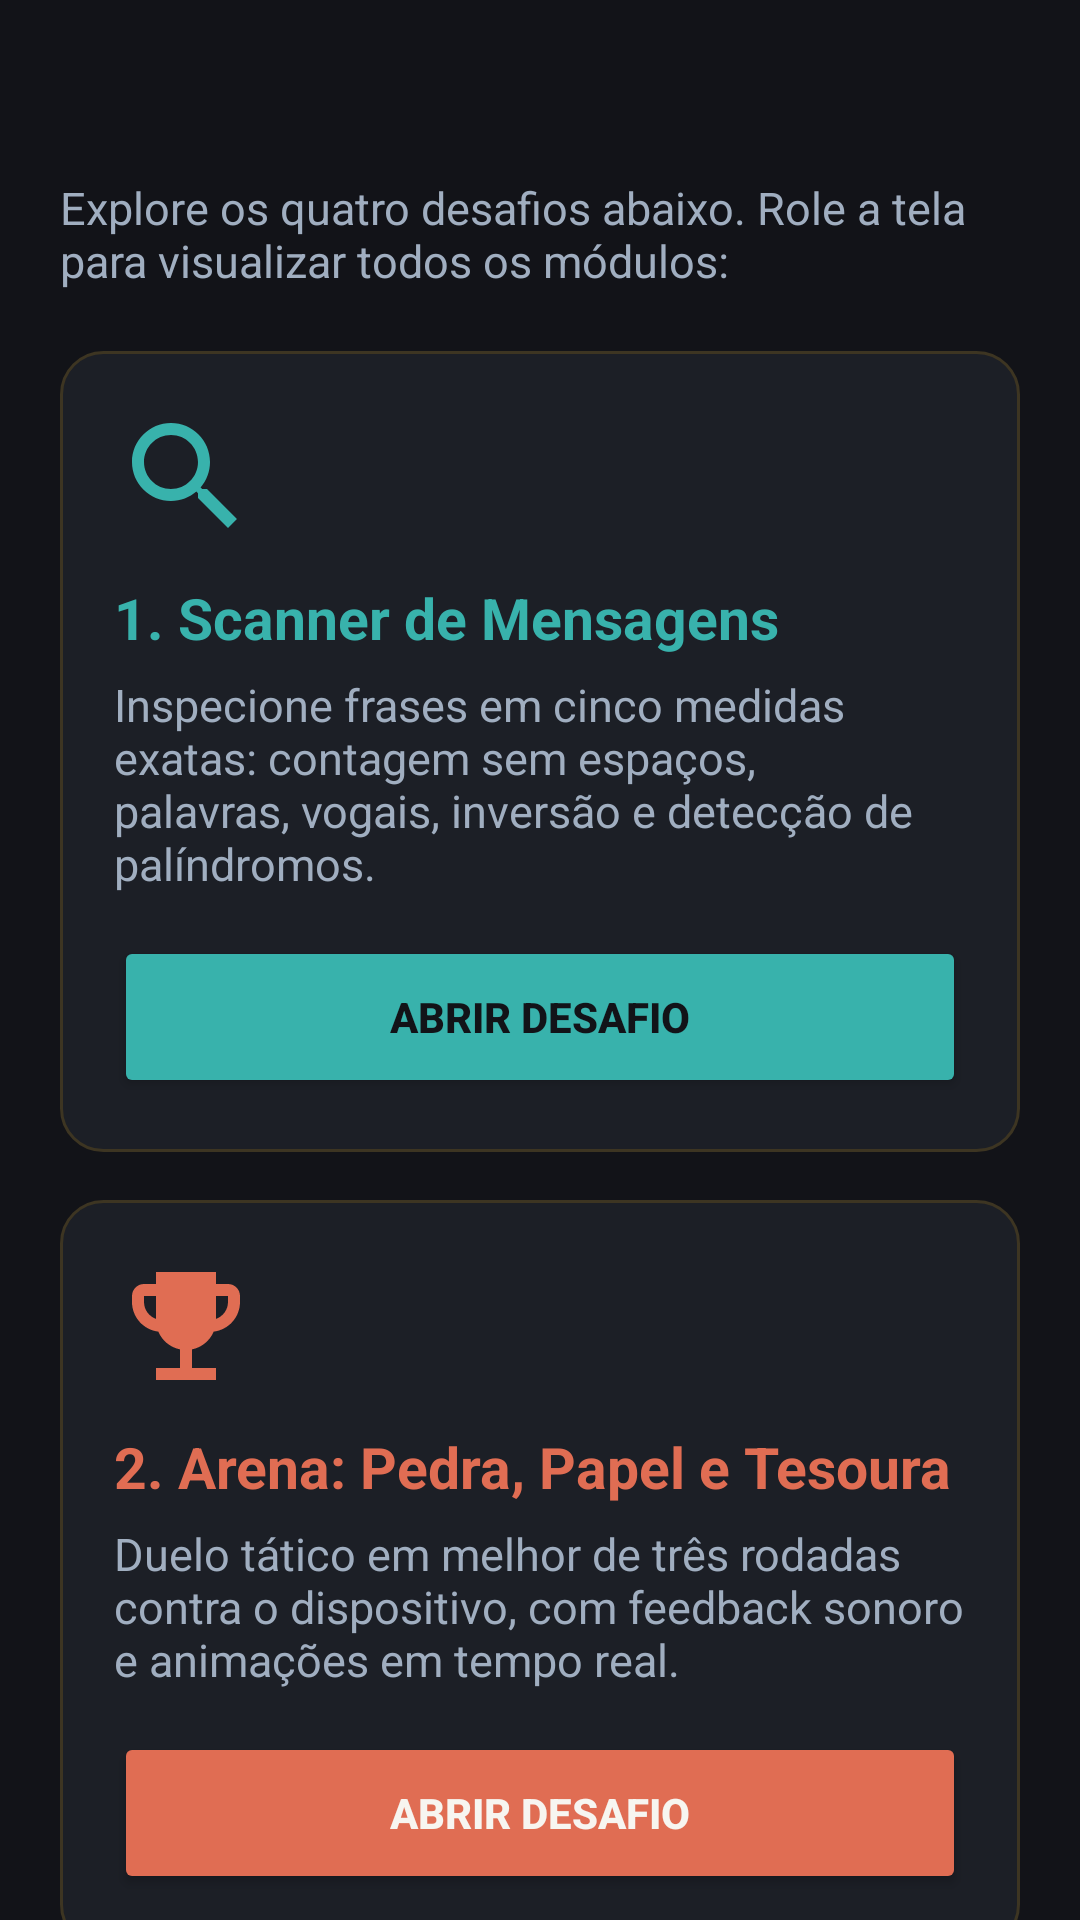

Where to tap for icons on this 1080*1920 app screen, as (x,y):
Ícone de lupa do módulo Scanner de Mensagens: (184,475)
